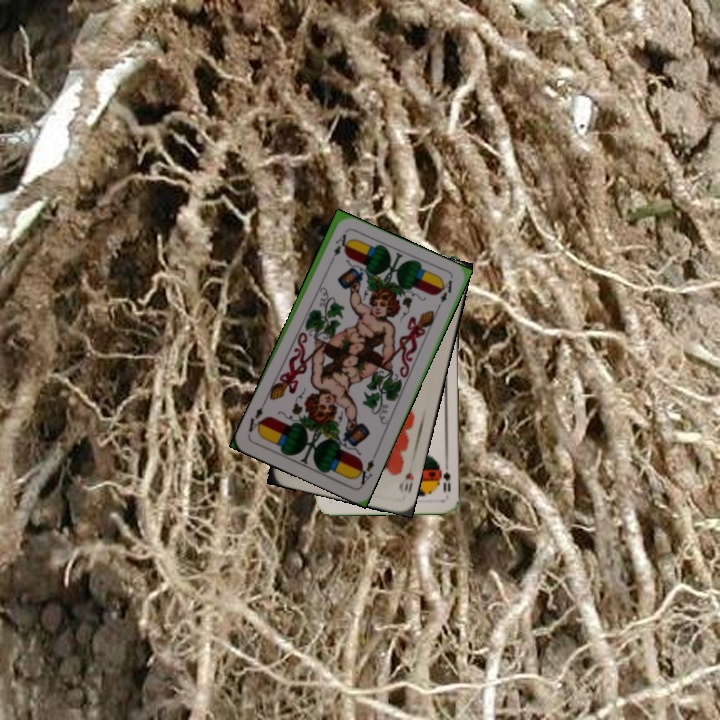EA: (352, 449, 379, 488), (326, 230, 349, 267)
H10: (395, 468, 416, 496)
SO: (438, 457, 453, 495)
